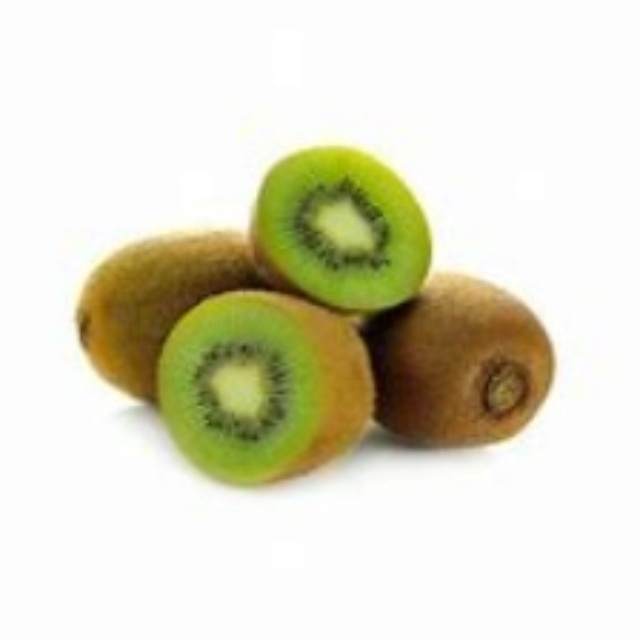kiwi: (156, 294, 373, 483), (68, 220, 271, 400), (252, 141, 435, 317), (375, 273, 549, 453)
